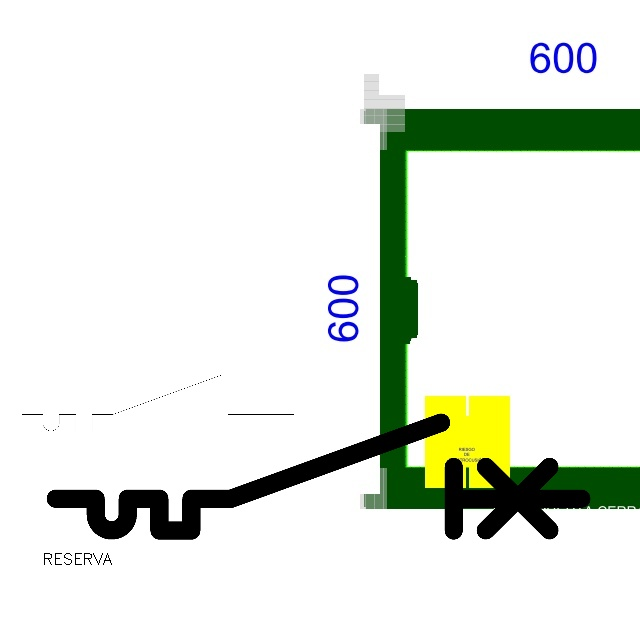interruptor_termomagnetico: (42, 409, 595, 544), (15, 368, 301, 438)
